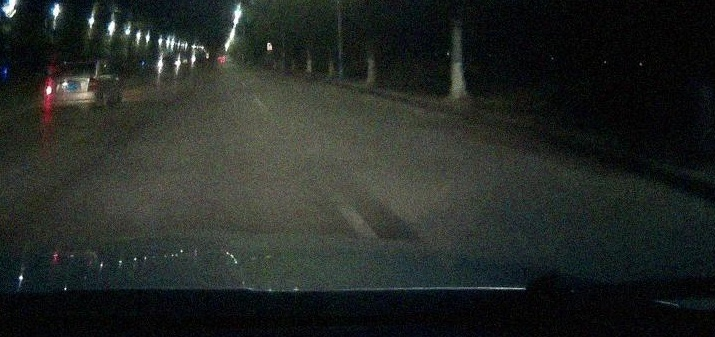L_light: (46, 80, 55, 95)
R_light: (87, 77, 96, 92)
T_light: (74, 64, 83, 67)
night-left: (45, 61, 97, 112)
